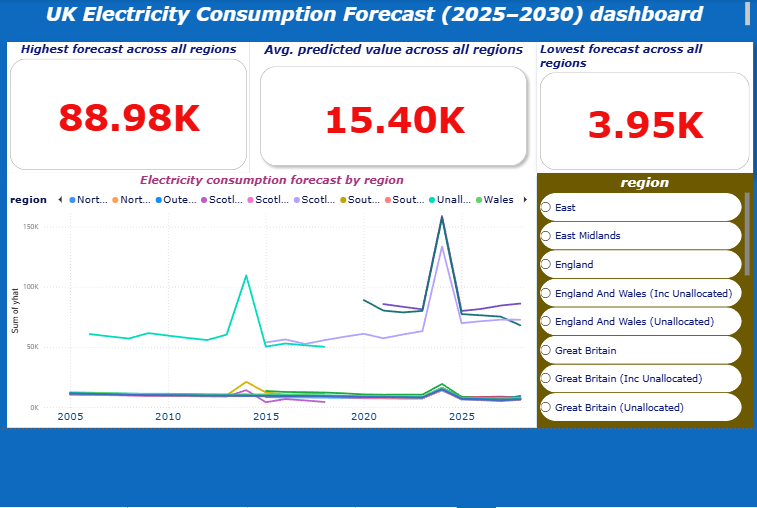

This screenshot's page, from the dashboard's own definition file:
{"tool":"powerbi","page":{"name":"Dashboard","canvas":[1280,720],"ordinal":2},"visuals":[{"type":"cardVisual","title":"Highest forecast across all regions","fields":{"Data":["uk_energy_forecast_powerbi.Max Forecast"]},"box":[11.8,72.2,408.2,220.1],"z":0},{"type":"cardVisual","title":"Avg. predicted value across all regions","fields":{"Data":["Avg(uk_energy_forecast_powerbi.yhat)"]},"box":[419.9,72.2,482.1,225.1],"z":1000},{"type":"cardVisual","title":"Lowest forecast across all regions","fields":{"Data":["uk_energy_forecast_powerbi.Min Forecast"]},"box":[902,72.2,362.8,220.1],"z":2000},{"type":"lineChart","title":"Electricity consumption forecast by region","fields":{"Category":["uk_energy_forecast_powerbi.year"],"Y":["Sum(uk_energy_forecast_powerbi.yhat)"],"Series":["uk_energy_forecast_powerbi.region"]},"box":[11.8,292.3,890.3,428.3],"z":3000},{"type":"textbox","box":[11.8,0,1253.1,57.1],"z":4000},{"type":"listSlicer","fields":{"Values":["uk_energy_forecast_powerbi.region"]},"box":[902,292.3,362.8,428.3],"z":5000}]}

Visuals, with their boxes on the page's 1280x720 design canvas (x1, y1, x2, y2). These are canvas units, not pixel positions in the 757x508 screenshot, which may show the page scaled, cropped or inside an application window:
"Highest forecast across all regions" cardVisual: 12 72 420 292
"Avg. predicted value across all regions" cardVisual: 420 72 902 297
"Lowest forecast across all regions" cardVisual: 902 72 1265 292
"Electricity consumption forecast by region" lineChart: 12 292 902 721
textbox: 12 0 1265 57
listSlicer - uk_energy_forecast_powerbi.region: 902 292 1265 721
